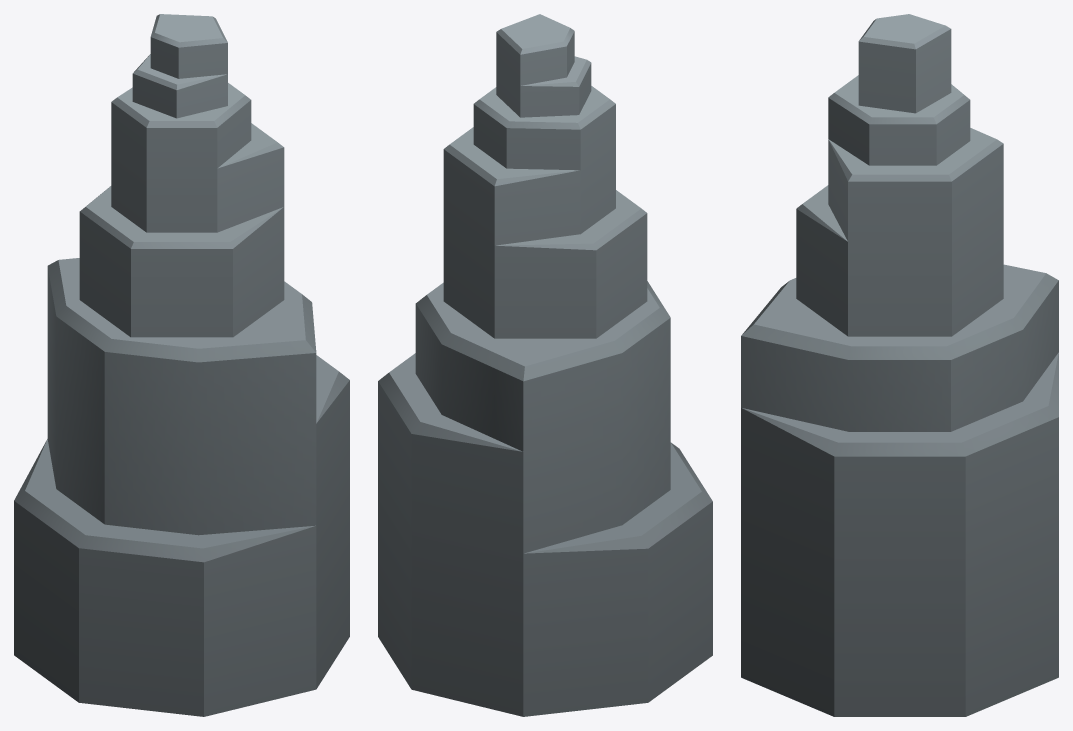
Rendered from Rock_1_O_Color1.glb.
3 views of the same model, side by side, from view 1: azimuth 30°, elevation 25°; view 2: azimuth 150°, elevation 25°; view 3: azimuth 270°, elevation 25° (orthographic).
Visible parts, largest first — view 1: Rock_1_O_Color1; view 2: Rock_1_O_Color1; view 3: Rock_1_O_Color1.
Part boxes in pixels (x1,y1,x2,y2): Rock_1_O_Color1: (14, 14, 349, 716); Rock_1_O_Color1: (378, 14, 712, 716); Rock_1_O_Color1: (741, 14, 1058, 716).
Bounding box in the file's own units: 2.11 × 4.58 × 2.11.
Materials: 1 (1 with a texture image).
